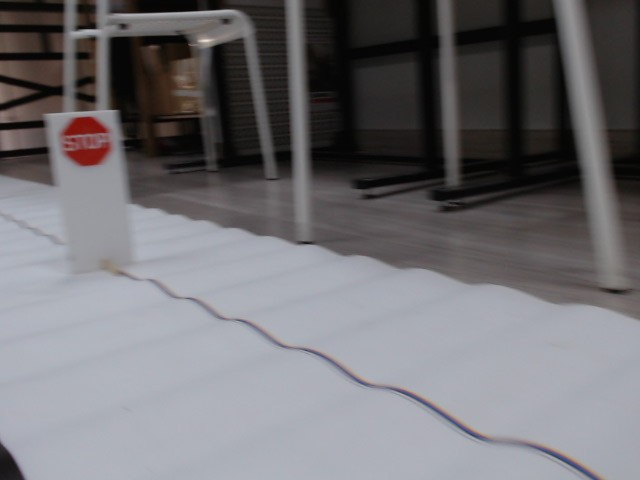Stop: (57, 117, 114, 164)
